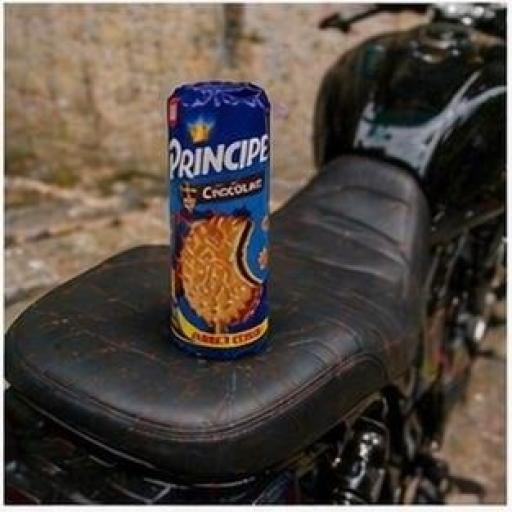prince: (94, 39, 374, 428)
